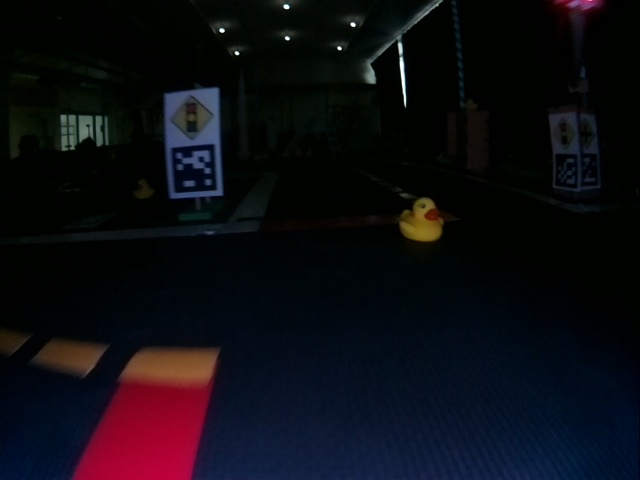Duckie: (400, 198, 444, 242), (134, 179, 153, 199)
Intersection sign: (582, 118, 598, 148)
QR code: (171, 145, 219, 195), (554, 155, 576, 190), (582, 154, 599, 189)
Signal sign: (168, 94, 215, 139), (552, 115, 576, 150)
